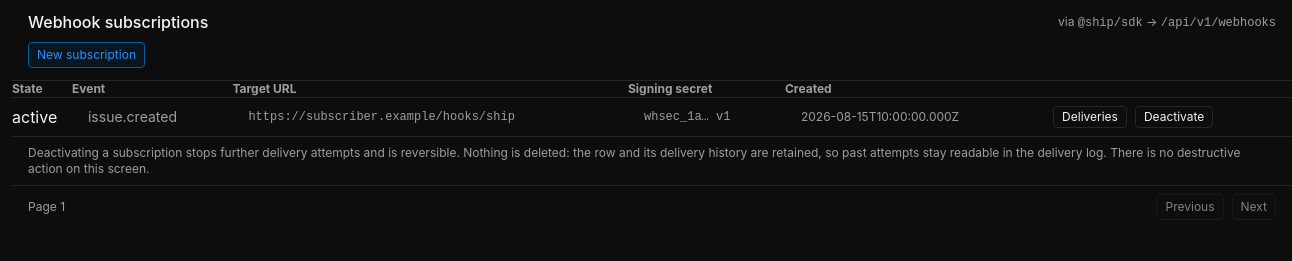
it: PF-673 — deactivation is reversible and nothing on this screen destroys anything › a failed toggle is reported and does not silently leave the row wrong
Click the button "Deactivate" at [1174, 117], box [1135,106,1213,128]
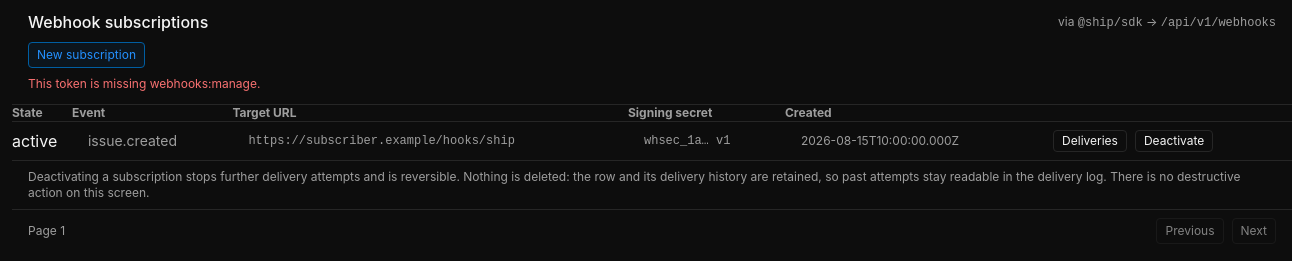
Result: the message with test id "subscription-action-error" reads "This token is missing webhooks:manage." at [28,76,260,91]
